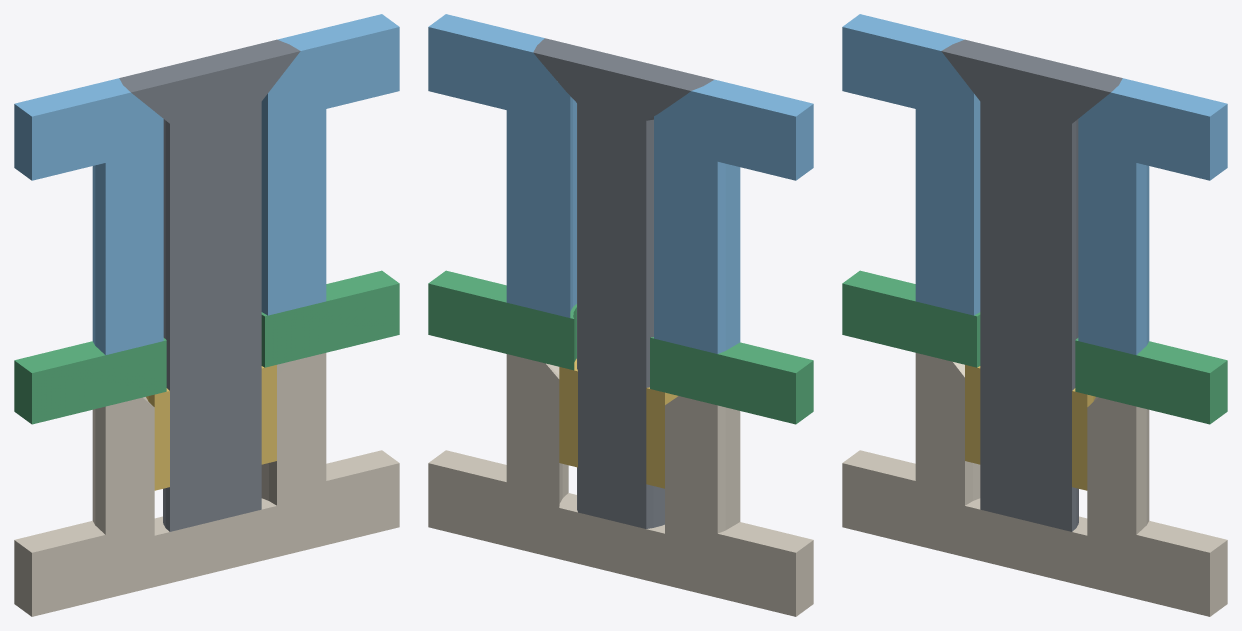
File: countersunk-screw-clears-bore-floor.actual.glb
3 views of the same model, side by side, from view 1: azimuth 30°, elevation 25°; view 2: azimuth 150°, elevation 25°; view 3: azimuth 330°, elevation 25° (orthographic).
Visible parts, largest first — view 1: EN1.H1.screw, lid, base, board, EN1.H1.insert; view 2: lid, base, EN1.H1.screw, board, EN1.H1.insert; view 3: EN1.H1.screw, lid, base, board, EN1.H1.insert.
Boxes of the visible parts, <box> form: EN1.H1.screw: <box>119,39,300,531</box>; lid: <box>14,14,399,355</box>; base: <box>14,353,399,616</box>; board: <box>14,270,399,424</box>; EN1.H1.insert: <box>146,365,276,490</box>; lid: <box>428,14,813,353</box>; base: <box>428,354,813,616</box>; EN1.H1.screw: <box>533,38,714,528</box>; board: <box>428,270,813,424</box>; EN1.H1.insert: <box>559,358,677,488</box>; EN1.H1.screw: <box>941,39,1122,531</box>; lid: <box>842,14,1227,355</box>; base: <box>842,353,1227,616</box>; board: <box>842,270,1227,424</box>; EN1.H1.insert: <box>965,365,1095,490</box>.
Size of the model in its own units: 12 by 15.6 by 1.
